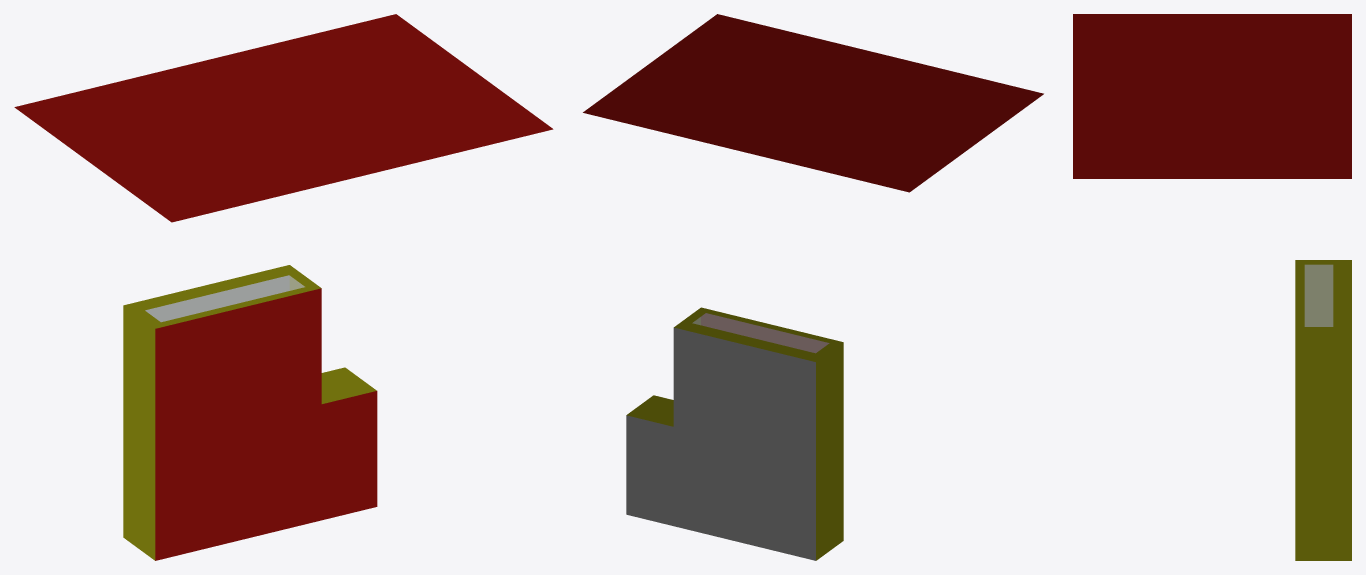
File: idf.obj
3 views of the same model, side by side, from view 1: azimuth 30°, elevation 25°; view 2: azimuth 150°, elevation 25°; view 3: azimuth 270°, elevation 25° (orthographic). The views are drawn at different scales.
Size of the model in its own units: 21 by 24 by 15.
